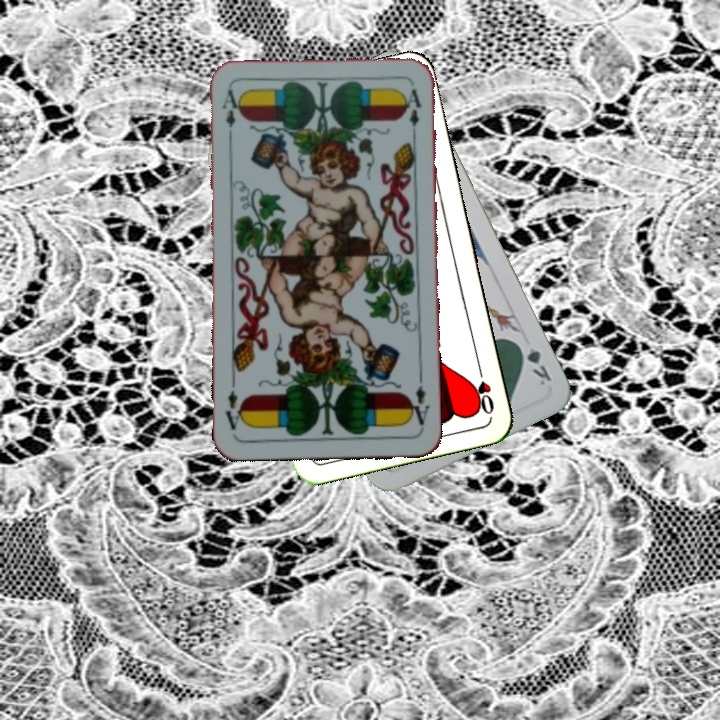EA: (405, 372, 432, 431), (217, 85, 242, 144)
GK: (513, 337, 554, 389)
HO: (471, 359, 497, 418)
